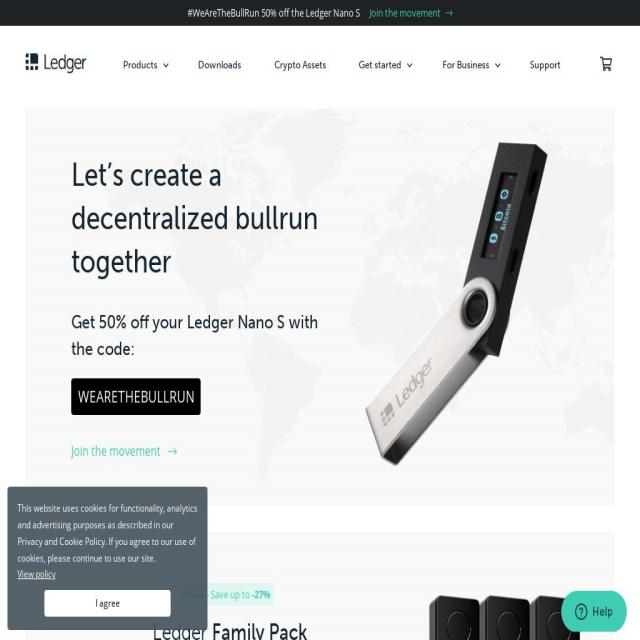navigation-links: (118, 50, 628, 78)
